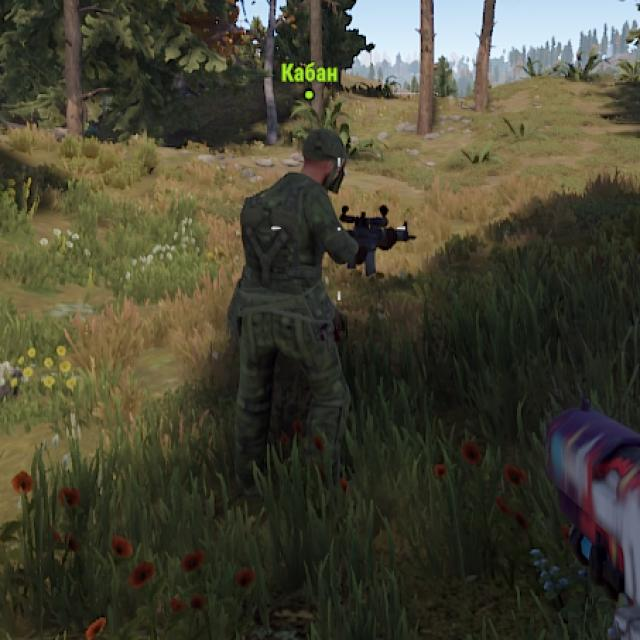Player: (232, 129, 356, 435)
